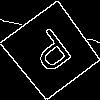P: (26, 26, 80, 82)
